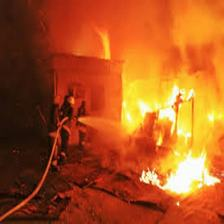fire: (126, 83, 223, 213)
